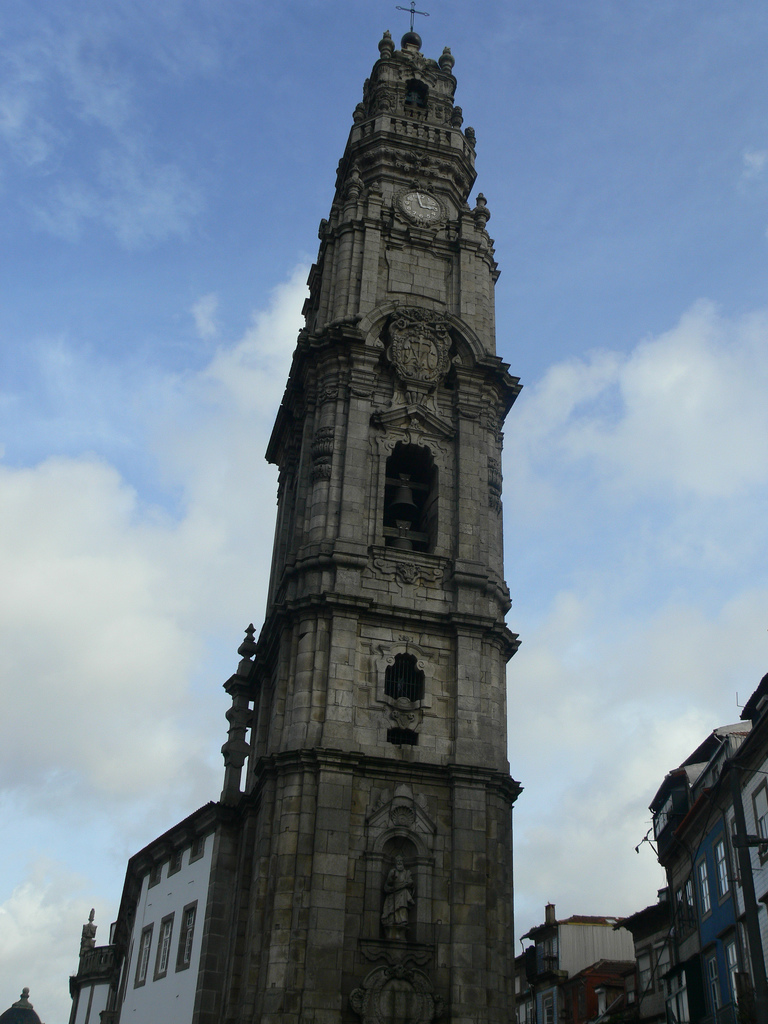clerigos: (217, 0, 524, 1023)
